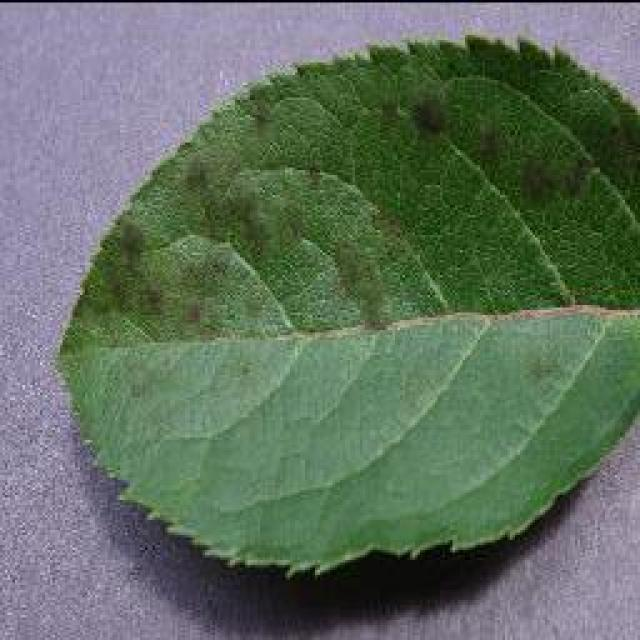apple scab disease: (52, 30, 638, 580)
